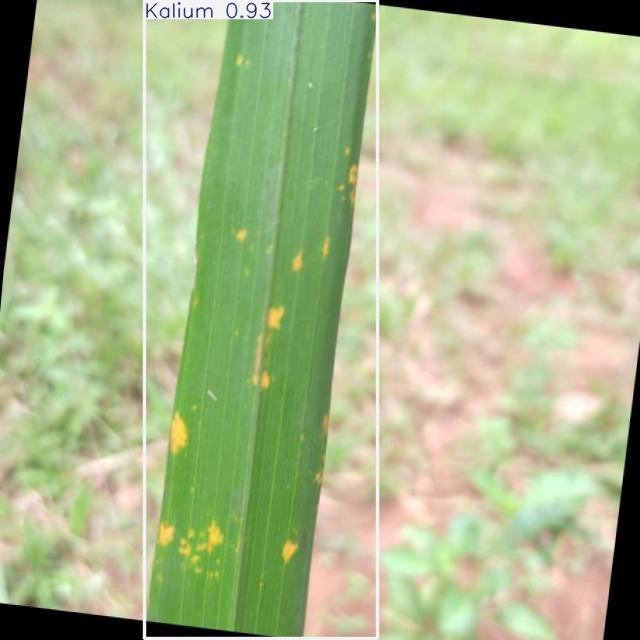Kalium: (145, 0, 377, 638)
